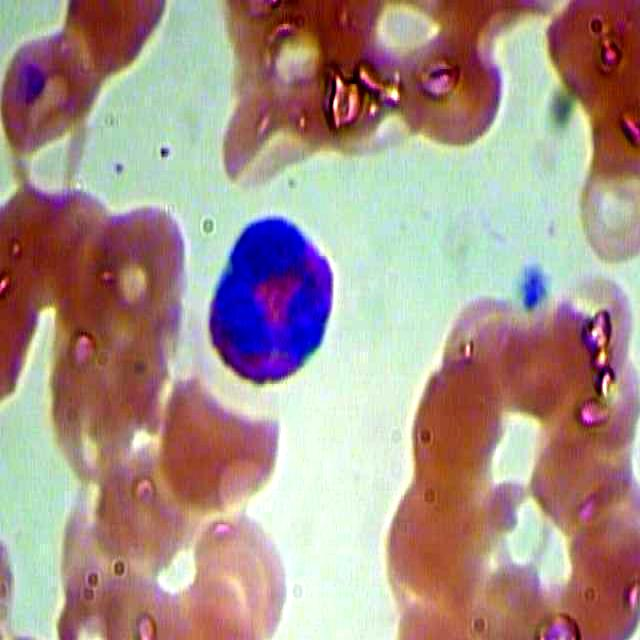Platelets: (506, 256, 551, 309)
RBC: (149, 375, 295, 516), (396, 21, 512, 158), (524, 408, 640, 544), (404, 346, 503, 494), (191, 492, 290, 640), (38, 328, 137, 476), (380, 466, 479, 614), (90, 192, 193, 332), (1, 78, 102, 218), (1, 16, 102, 156), (566, 128, 640, 267), (548, 533, 640, 640), (209, 96, 317, 185), (467, 552, 555, 640), (64, 1, 162, 80)
WBC: (200, 201, 355, 404)
